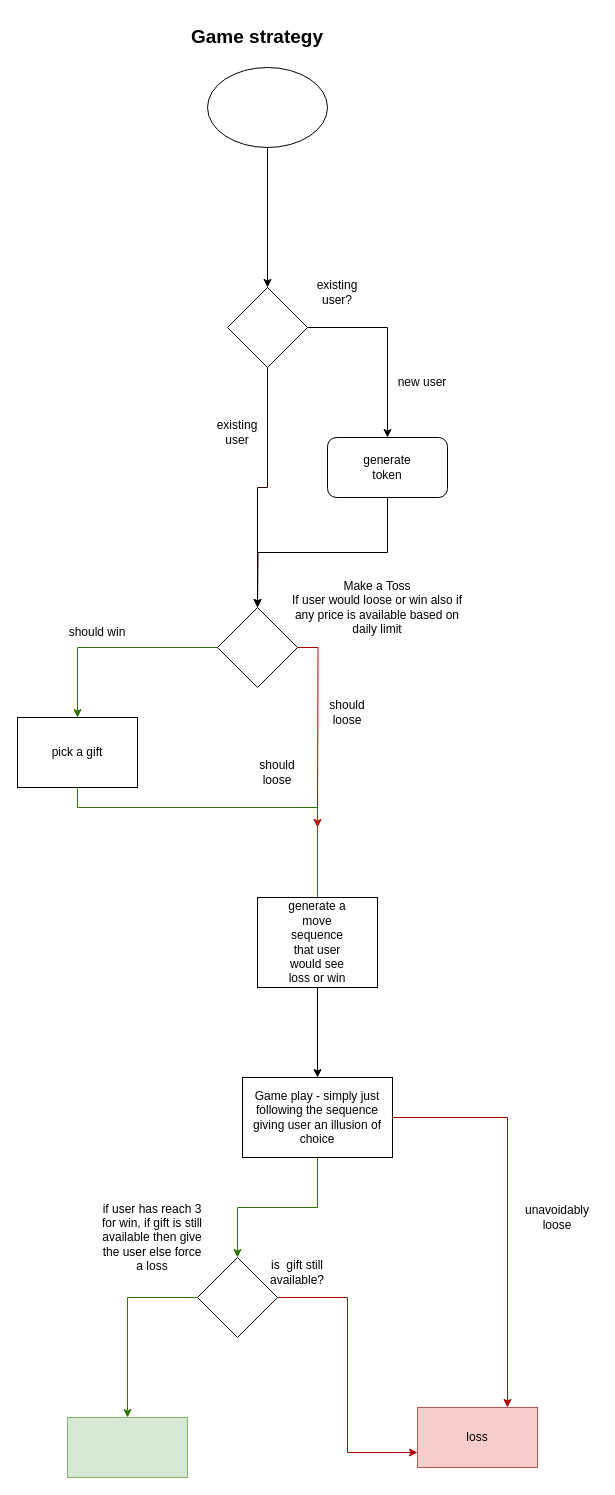
Image size: 615x1495. Some labels were removed from this diagram. Here are the shapes that lost their labels. From the top down, the centre of each, then its label:
At (x=267, y=107): "game start".
At (x=127, y=1447): "win".
